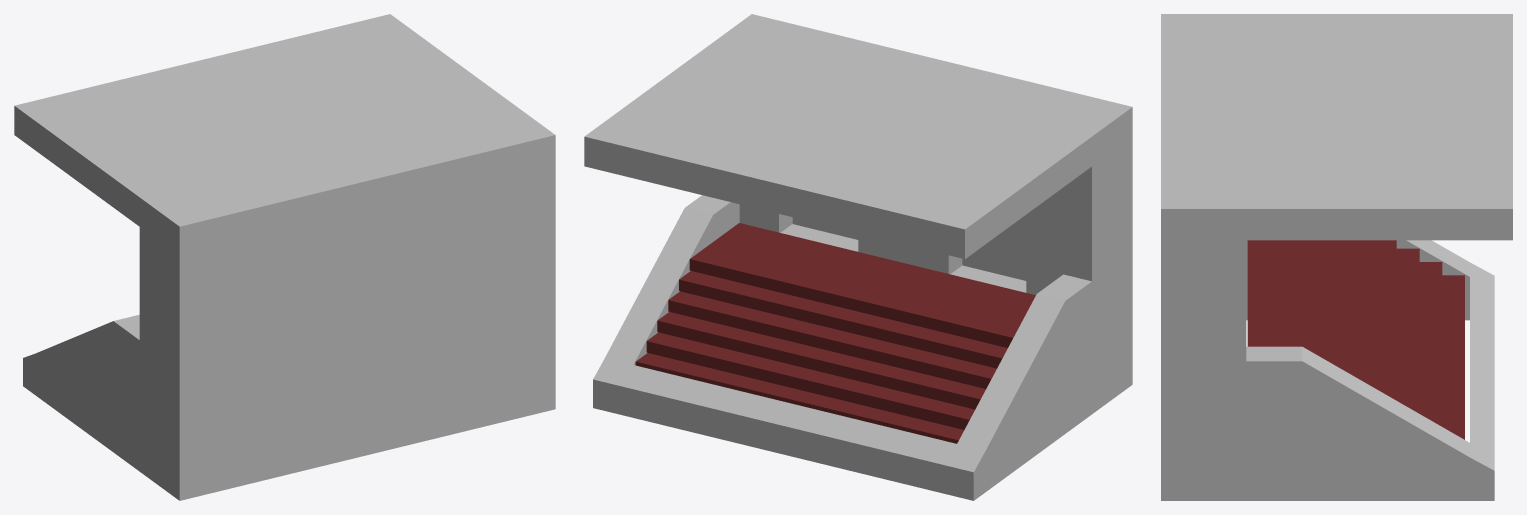
File: stadium-seats-wtYoArecHj.glb
3 views of the same model, side by side, from view 1: azimuth 30°, elevation 25°; view 2: azimuth 150°, elevation 25°; view 3: azimuth 270°, elevation 25° (orthographic). The views are drawn at different scales.
Visible parts, largest first — view 1: StadiumSits2_Cube; view 2: StadiumSits2_Cube; view 3: StadiumSits2_Cube.
Boxes of the visible parts, x1,y1,x2,y2 form: StadiumSits2_Cube: [14, 14, 555, 500]; StadiumSits2_Cube: [584, 14, 1132, 500]; StadiumSits2_Cube: [1161, 14, 1512, 500].
Size of the model in its own units: 21.8 by 15.2 by 16.61.
